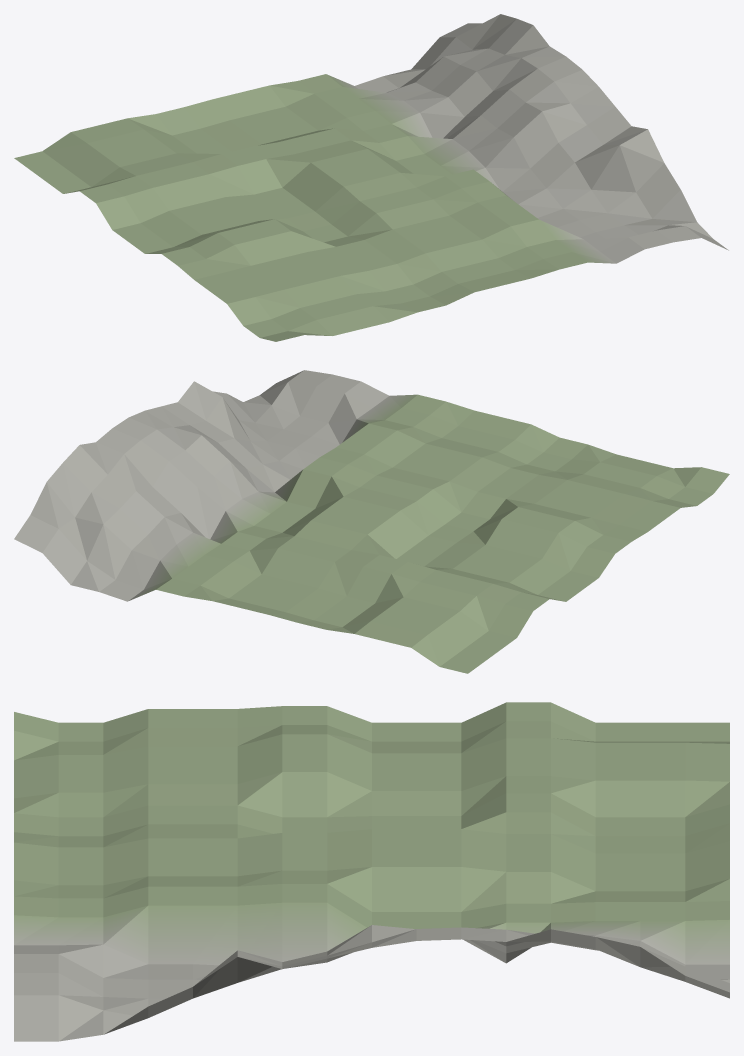
3 renders of one model, top to bottom at view 1: azimuth 30°, elevation 25°; view 2: azimuth 150°, elevation 25°; view 3: azimuth 270°, elevation 25°, orthographic. The views are drawn at different scales.
Bounding box in the file's own units: 32 × 5.55 × 32.
